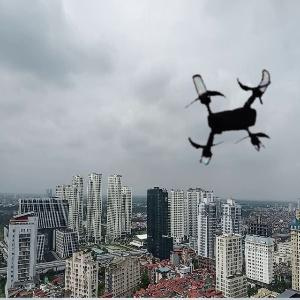drone: (171, 53, 287, 169)
